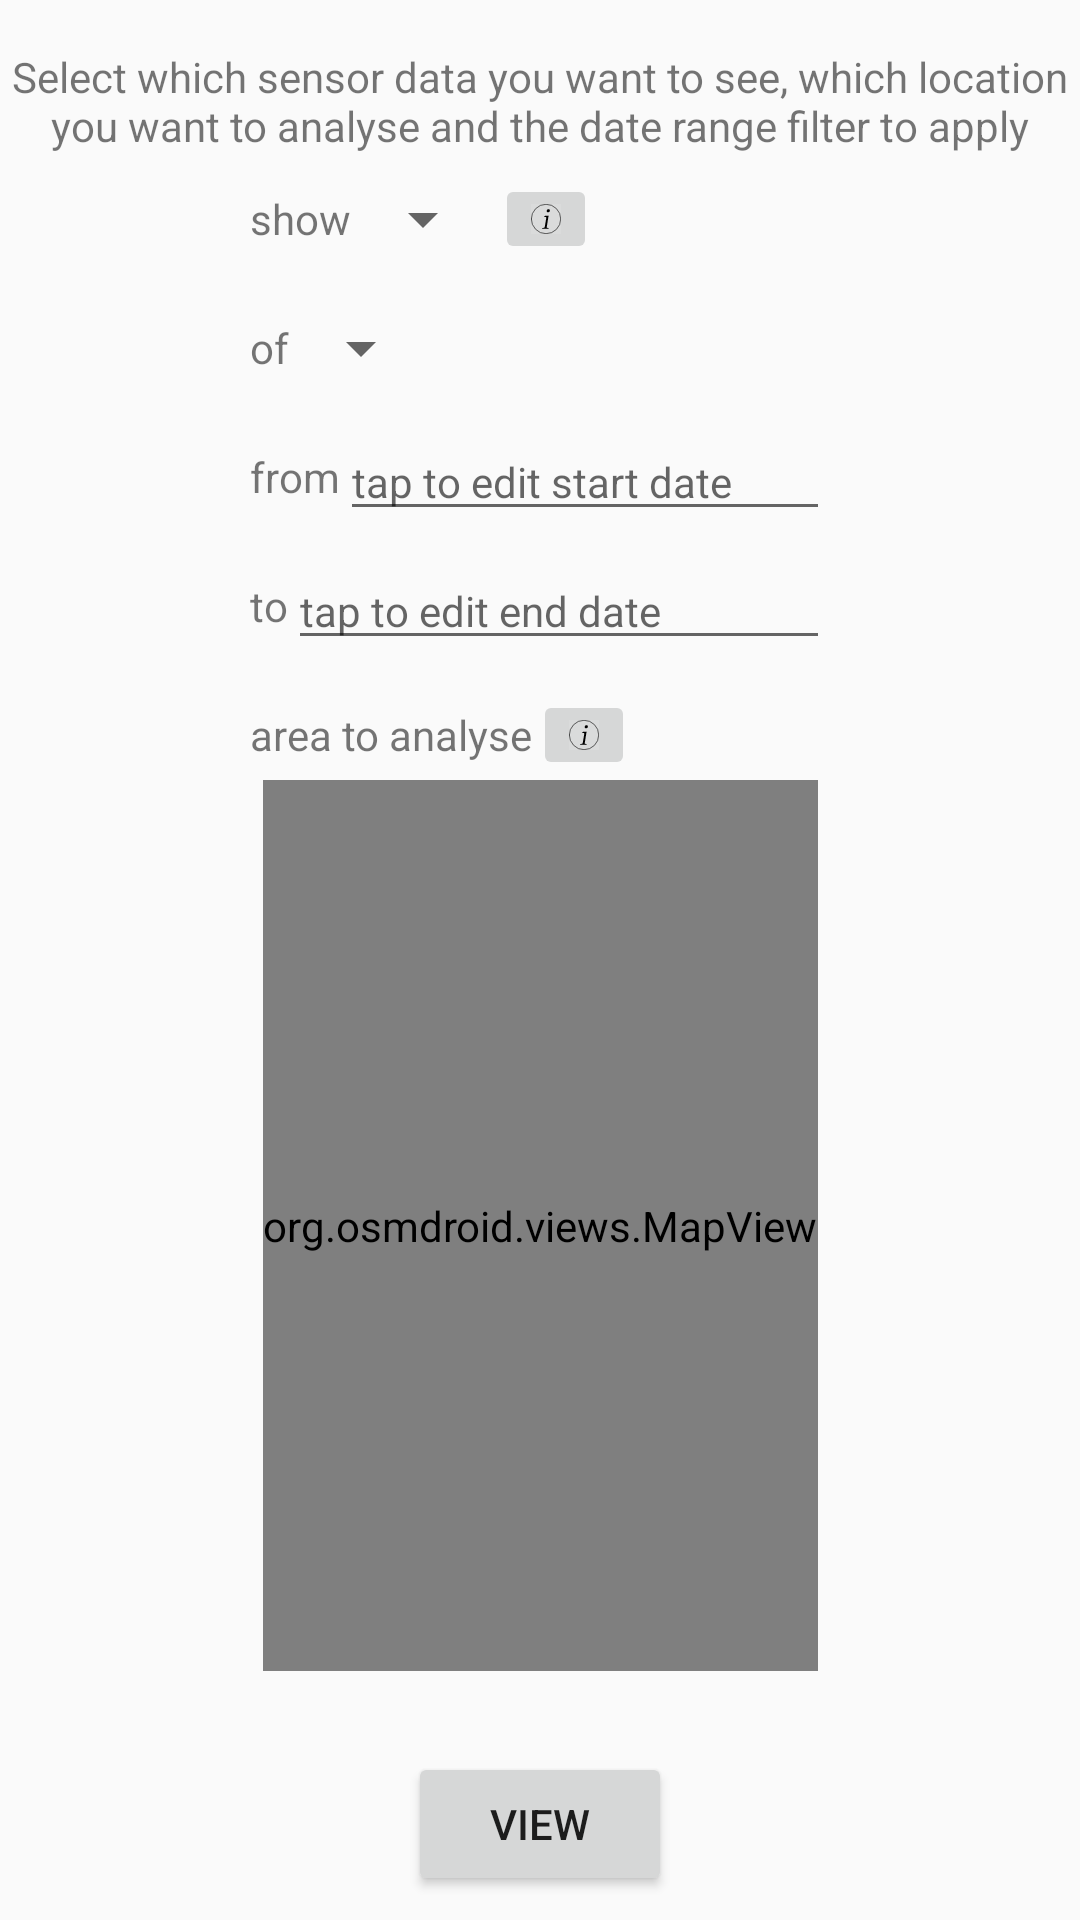

Where icons sit on this 1080x1920 app screen, as rect(x1, y1, x2, y2):
od info: rect(507, 192, 585, 246), rect(545, 708, 623, 762)
